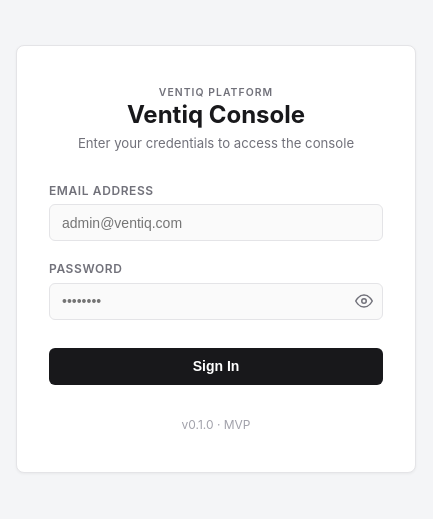
LoginPage › displays error message on API failure when useMock is false
Type "wrong@ventiq.com" into the field labelled "EMAIL ADDRESS" at (216, 223), box [49,204,383,241]
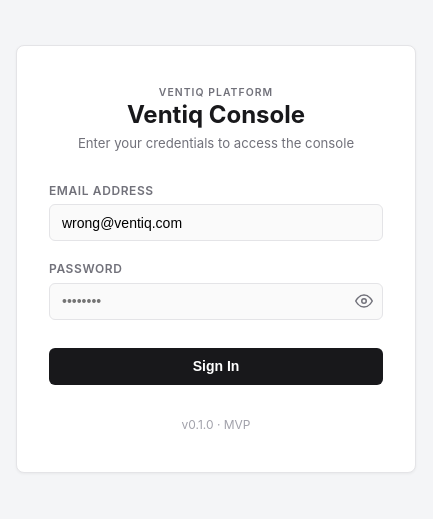
Type "wrongpass" into the password field labelled "PASSWORD" at (216, 301), box [49,283,383,320]
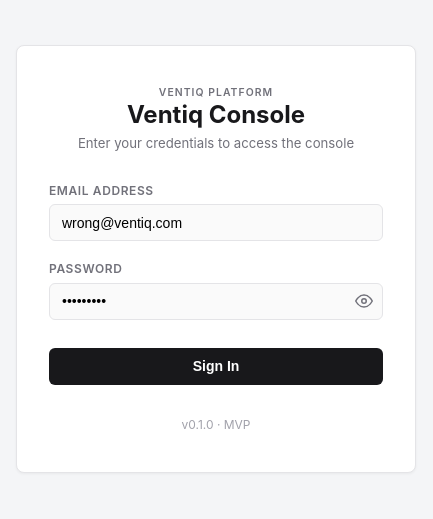
Click the button "Sign In" at (216, 366), box [49,348,383,385]
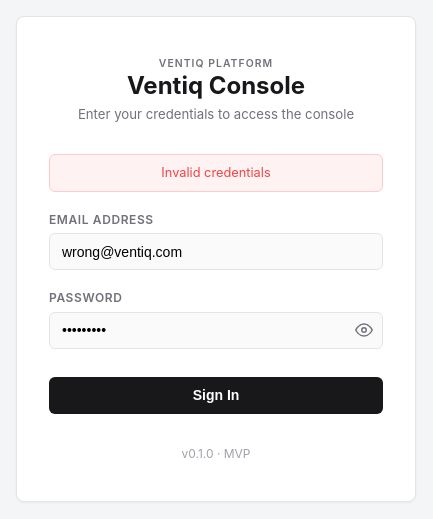
Expected: the text "Invalid credentials" is shown, [49,154,383,192]
